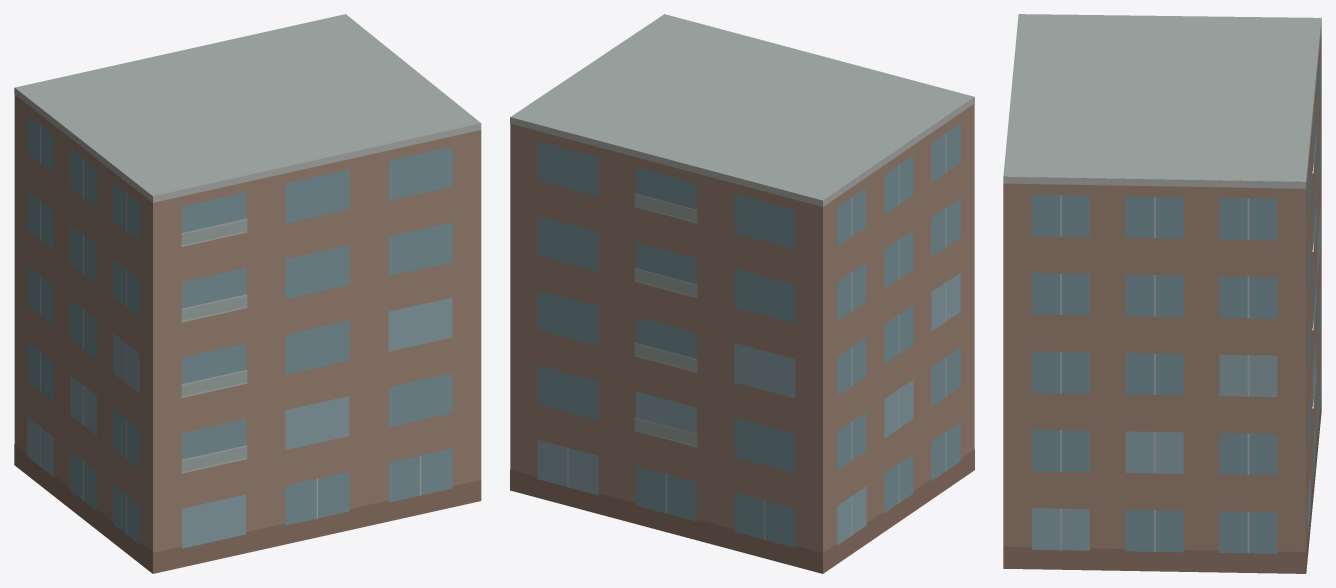
File: survey-upis-33045761.glb
The picture shows the model from 3 angles, left to right: view 1: azimuth 30°, elevation 25°; view 2: azimuth 150°, elevation 25°; view 3: azimuth 270°, elevation 25°; orthographic projection. The views are drawn at different scales.
Visible parts, largest first — view 1: survey-upis-33045761.tmp; view 2: survey-upis-33045761.tmp; view 3: survey-upis-33045761.tmp.
Boxes of the visible parts, box(x1,y1,x2,y2) form: survey-upis-33045761.tmp: box(14, 14, 481, 573); survey-upis-33045761.tmp: box(510, 14, 974, 573); survey-upis-33045761.tmp: box(1003, 14, 1321, 573).
Size of the model in its own units: 12.78 by 13.9 by 10.24.
